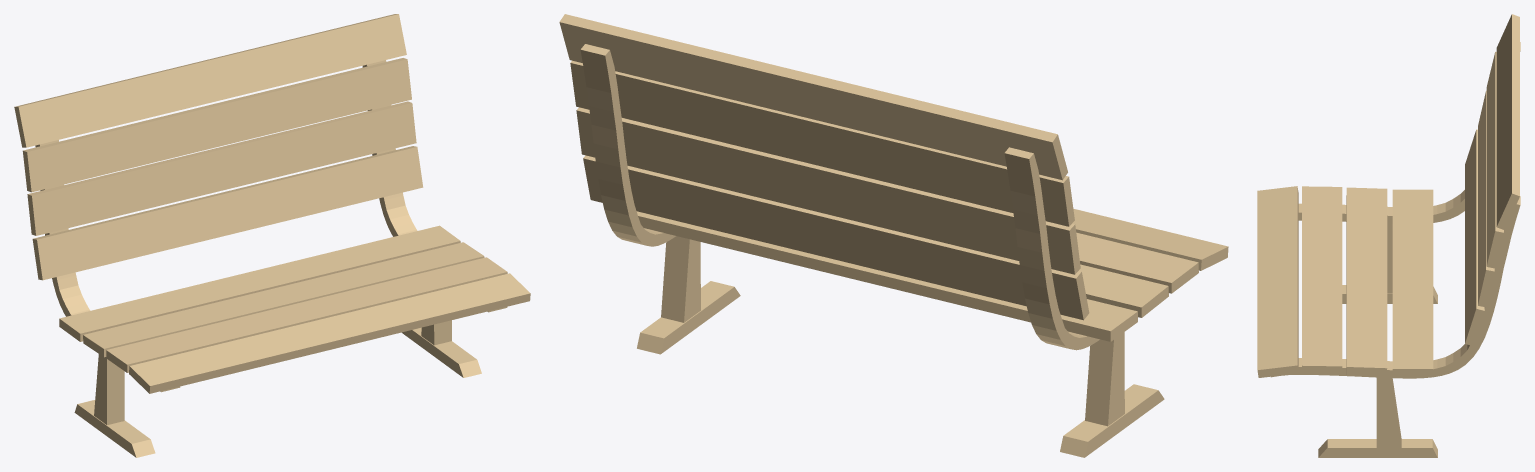
File: bench.glb
3 renders of one model, left to right at view 1: azimuth 30°, elevation 25°; view 2: azimuth 150°, elevation 25°; view 3: azimuth 270°, elevation 25°, orthographic. The views are drawn at different scales.
Parts seen in each view (by area): view 1: Cube.000; view 2: Cube.000; view 3: Cube.000.
Part boxes in pixels (x1=…): Cube.000: x1=14, y1=14, x2=530, y2=457; Cube.000: x1=559, y1=14, x2=1228, y2=457; Cube.000: x1=1257, y1=14, x2=1520, y2=457.
Size of the model in its own units: 1.13 by 0.7998 by 0.6992.
